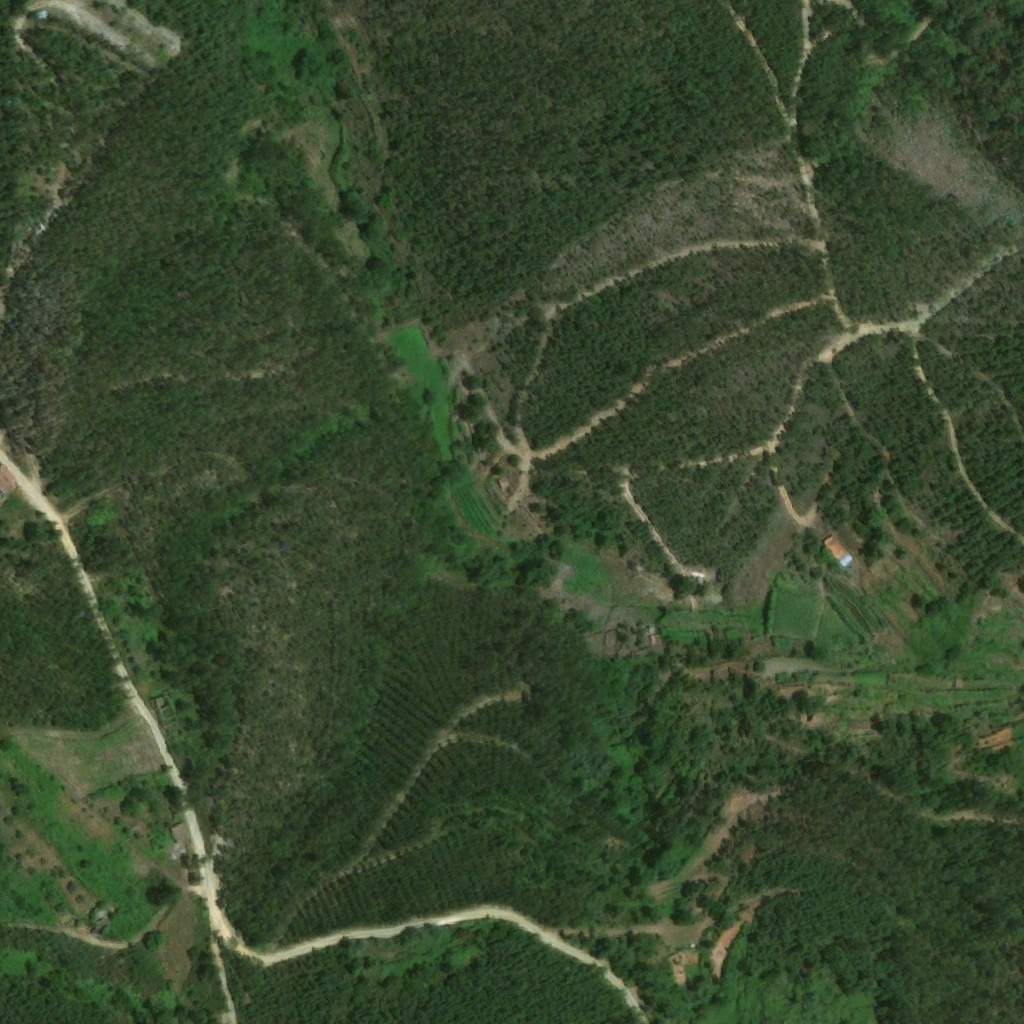0 no-damage: (822, 535, 849, 564), (0, 464, 17, 499), (646, 633, 668, 648), (838, 553, 855, 570), (496, 478, 509, 493)
